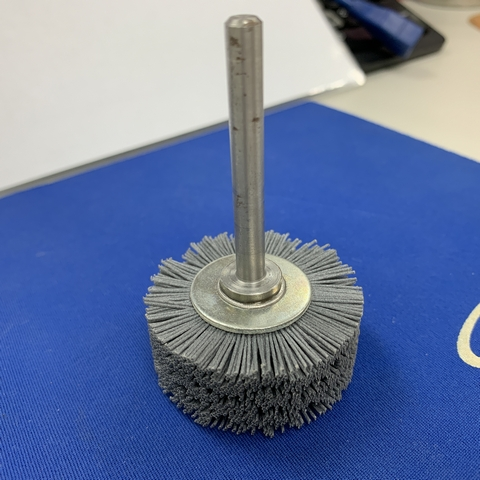Wheel Brush: (118, 6, 381, 457), (142, 15, 384, 436), (165, 15, 361, 400)
